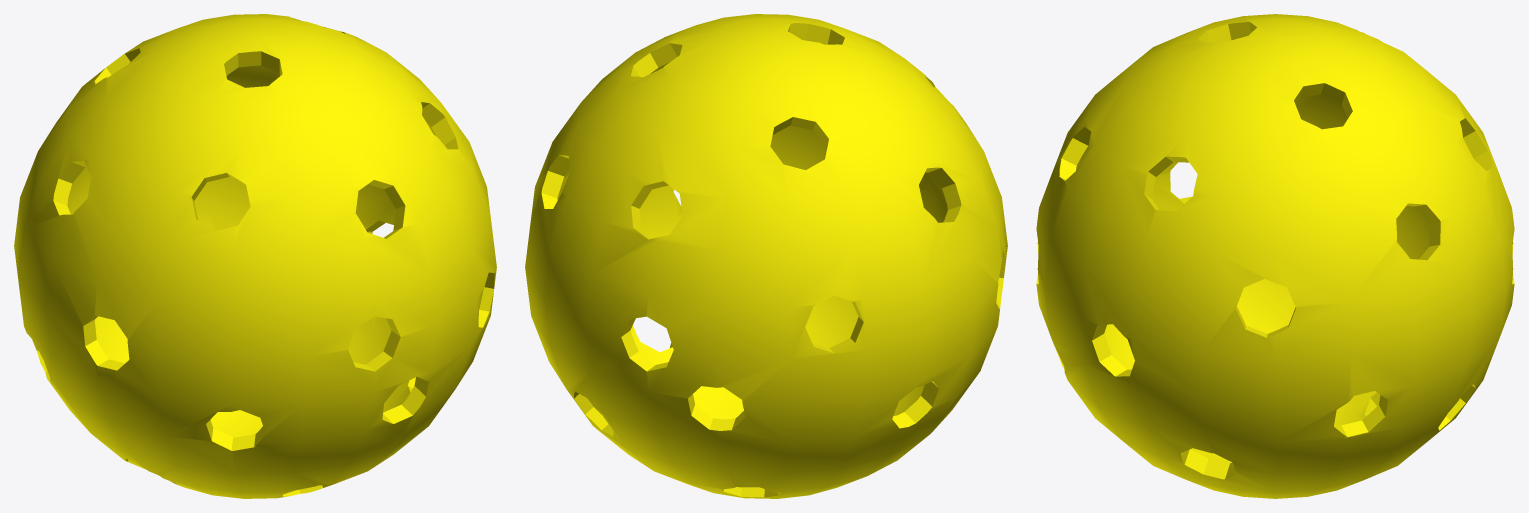
Rendered from Ball.glb.
3 views of the same model, side by side, from view 1: azimuth 30°, elevation 25°; view 2: azimuth 150°, elevation 25°; view 3: azimuth 270°, elevation 25° (orthographic).
Parts seen in each view (by area): view 1: Pickleball; view 2: Pickleball; view 3: Pickleball.
Part boxes in pixels (box(x1,y1,x2,y2)): Pickleball: box(14, 14, 496, 498); Pickleball: box(525, 14, 1007, 498); Pickleball: box(1036, 14, 1514, 498).
Size of the model in its own units: 2 by 2 by 1.97.
